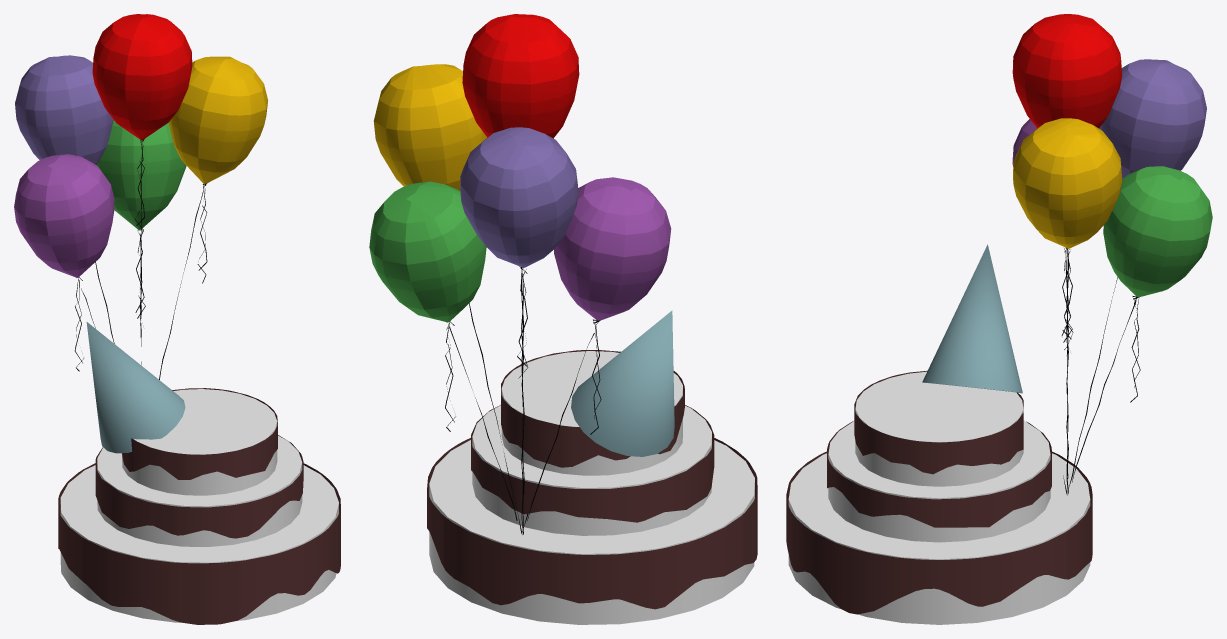
The model's file is Birthday party.fbx.
The picture shows the model from 3 angles, left to right: view 1: azimuth 30°, elevation 25°; view 2: azimuth 150°, elevation 25°; view 3: azimuth 270°, elevation 25°; orthographic projection. The views are drawn at different scales.
Visible parts, largest first — view 1: polySurface72, polySurface73, polySurface89, polySurface90, polySurface107, polySurface68, polySurface83, polySurface57, polySurface69, polySurface106, polySurface78; view 2: polySurface72, polySurface73, polySurface83, polySurface90, polySurface106, polySurface89, polySurface107, polySurface57, polySurface69, polySurface68, polySurface78; view 3: polySurface72, polySurface73, polySurface68, polySurface107, polySurface106, polySurface89, polySurface69, polySurface83, polySurface57, polySurface78.
Part boxes in pixels (bbox=[...]): polySurface72: bbox=[58, 388, 340, 624]; polySurface73: bbox=[60, 465, 338, 622]; polySurface89: bbox=[92, 14, 192, 140]; polySurface90: bbox=[14, 154, 114, 277]; polySurface107: bbox=[168, 56, 268, 183]; polySurface68: bbox=[122, 389, 277, 495]; polySurface83: bbox=[15, 55, 113, 164]; polySurface57: bbox=[86, 322, 185, 453]; polySurface69: bbox=[97, 435, 302, 546]; polySurface106: bbox=[96, 120, 186, 230]; polySurface78: bbox=[74, 139, 207, 379]; polySurface72: bbox=[427, 350, 757, 609]; polySurface73: bbox=[429, 440, 754, 624]; polySurface83: bbox=[460, 127, 578, 268]; polySurface90: bbox=[554, 177, 671, 320]; polySurface106: bbox=[369, 181, 486, 322]; polySurface89: bbox=[462, 14, 579, 138]; polySurface107: bbox=[373, 64, 487, 190]; polySurface57: bbox=[571, 310, 674, 456]; polySurface69: bbox=[472, 405, 711, 535]; polySurface68: bbox=[501, 351, 682, 475]; polySurface78: bbox=[445, 266, 601, 534]; polySurface72: bbox=[786, 370, 1092, 614]; polySurface73: bbox=[788, 453, 1090, 624]; polySurface68: bbox=[855, 371, 1023, 486]; polySurface107: bbox=[1013, 118, 1122, 248]; polySurface106: bbox=[1103, 166, 1212, 298]; polySurface89: bbox=[1012, 14, 1122, 128]; polySurface69: bbox=[828, 421, 1050, 542]; polySurface83: bbox=[1099, 59, 1206, 178]; polySurface57: bbox=[922, 244, 1022, 393]; polySurface78: bbox=[1061, 248, 1140, 495].
Size of the model in its own units: 5.85 by 11.48 by 8.15.
